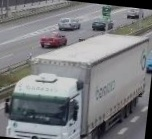truck: (2, 23, 151, 139)
